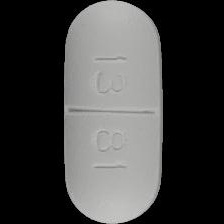0025-1381: (0, 0, 224, 224)
